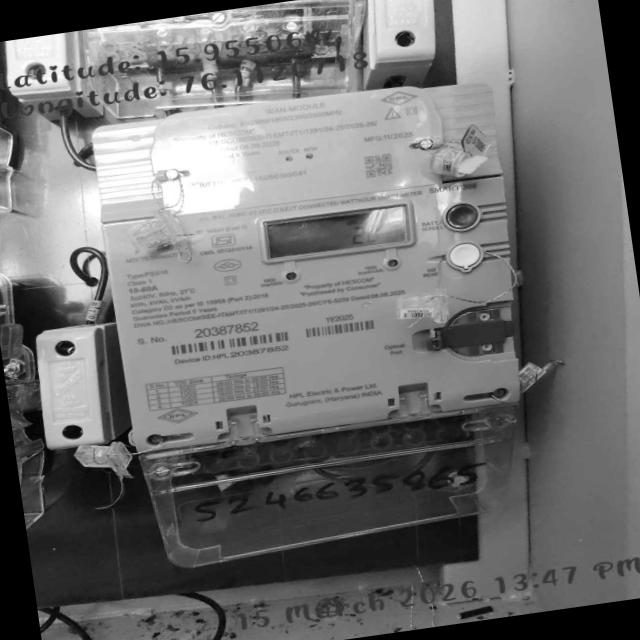meter: (94, 73, 538, 454)
